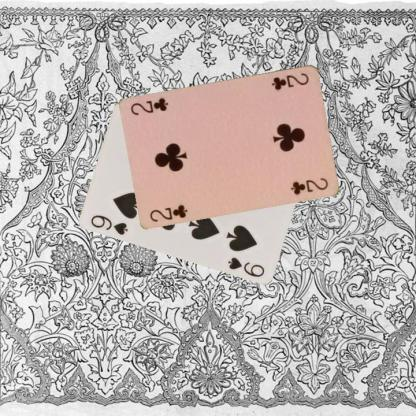2c: (148, 202, 190, 223), (270, 70, 310, 91)
9s: (89, 212, 130, 236)
